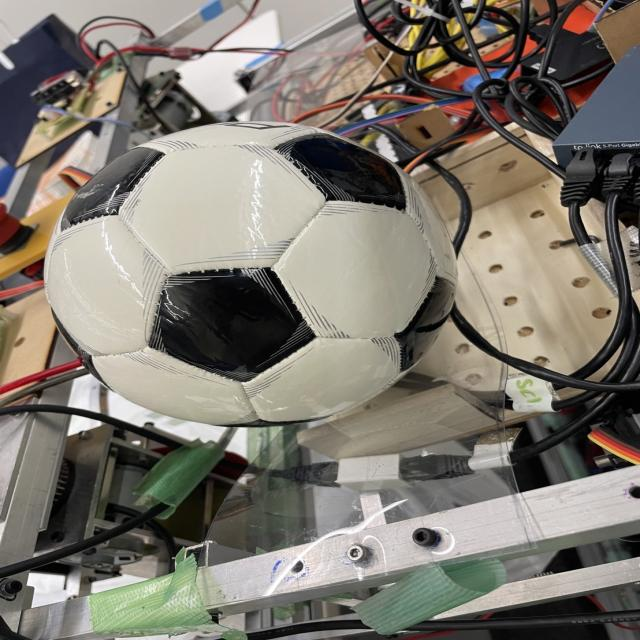ball: (41, 122, 452, 427)
